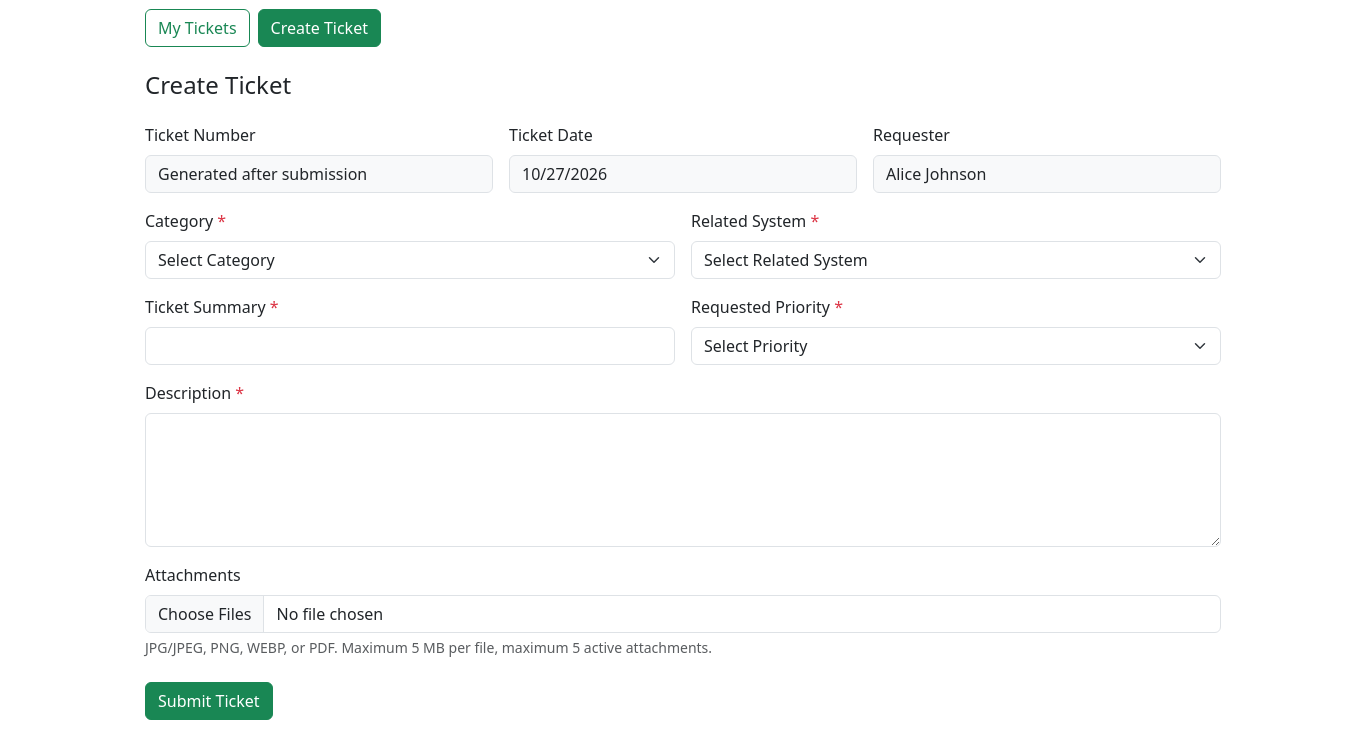
Scenario: Create Ticket › shows field-level validation when required fields are missing
(page scrolled)
Expected: the heading "Create Ticket" is shown, [145, 68, 291, 101]
Click the button "Submit Ticket" at (209, 701), box [145, 682, 273, 720]
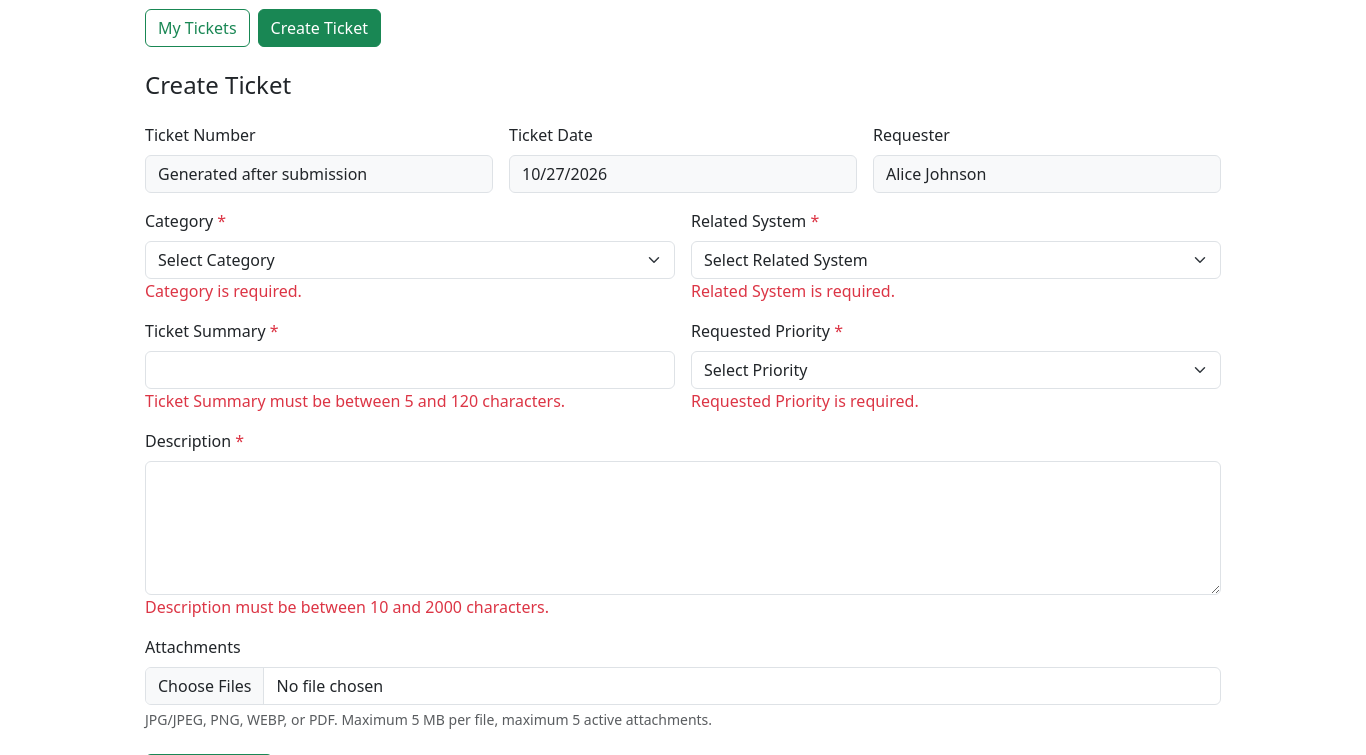
Expected: the text "Category is required." is shown, [145, 280, 302, 302]
Expected: the text "Related System is required." is shown, [691, 280, 895, 302]
Expected: the text "Requested Priority is required." is shown, [691, 390, 919, 412]
